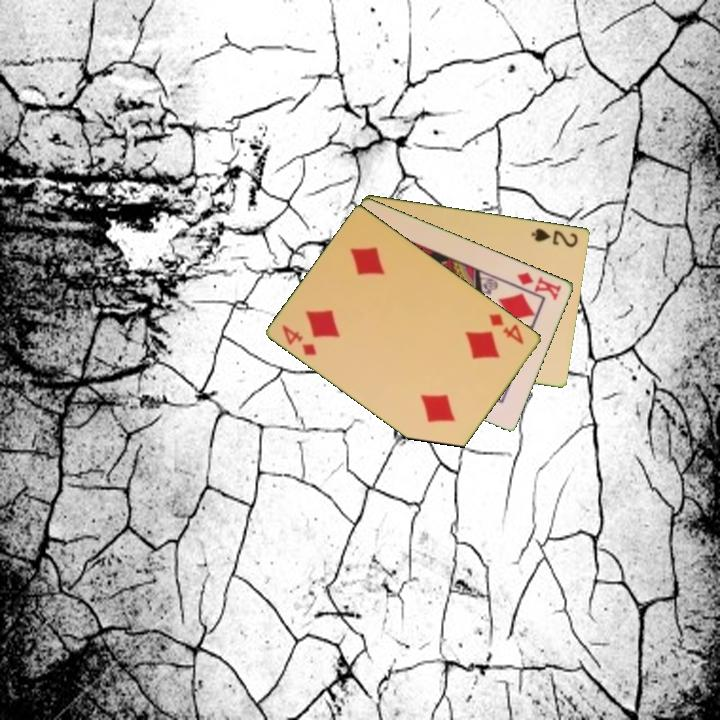2s: (528, 224, 581, 250)
4d: (278, 321, 320, 359), (485, 310, 527, 347)
Kd: (514, 268, 565, 303)
